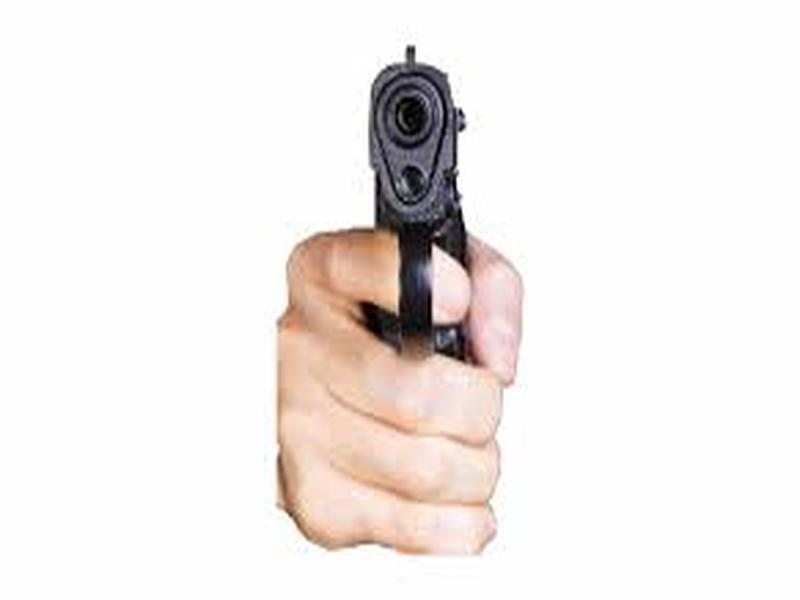gun: (266, 44, 528, 570)
